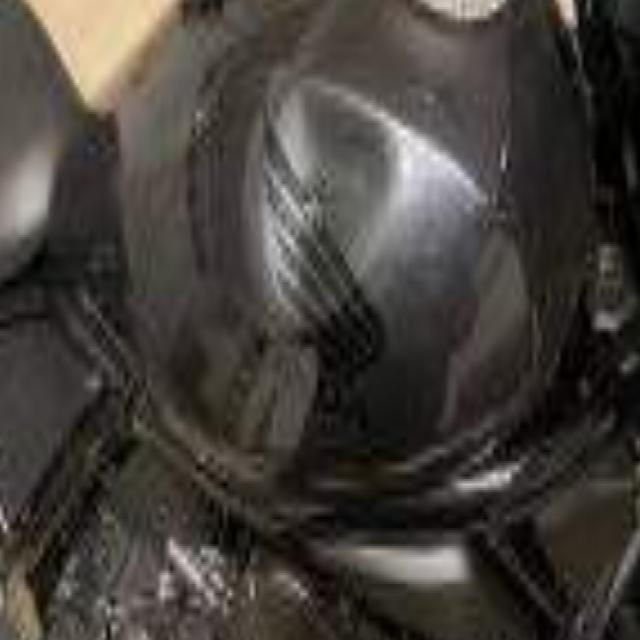dents: (243, 77, 414, 315)
